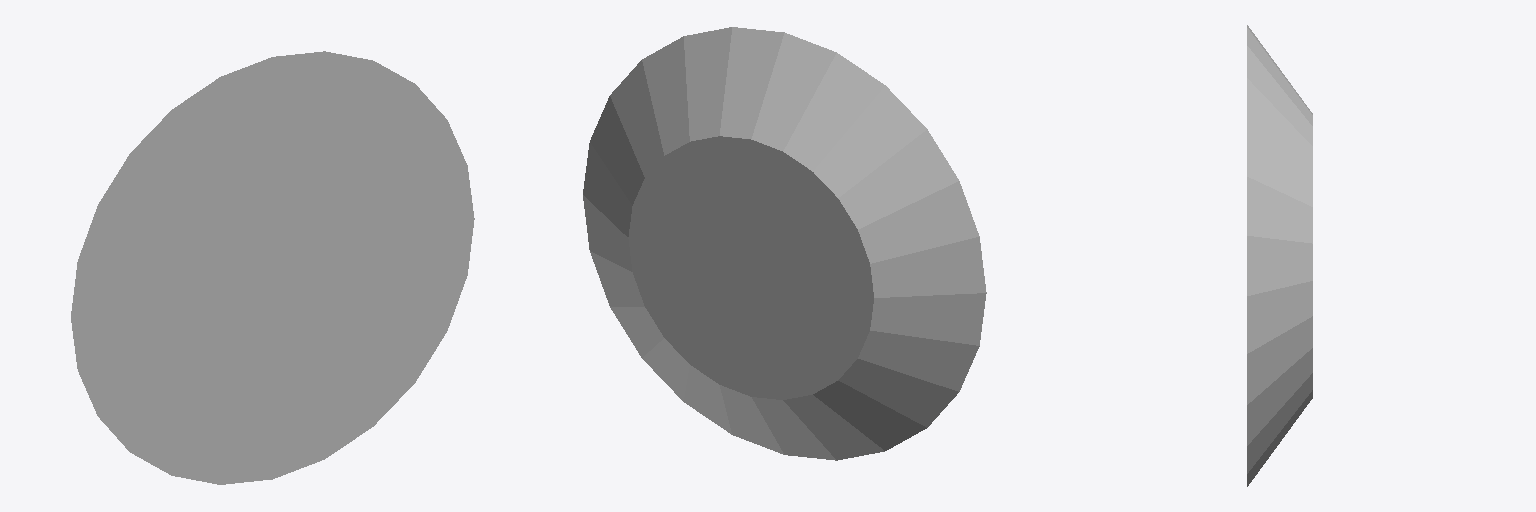
Rendered from BaffleGethoBlaster.obj.
3 renders of one model, left to right at view 1: azimuth 30°, elevation 25°; view 2: azimuth 150°, elevation 25°; view 3: azimuth 270°, elevation 25°, orthographic.
Parts seen in each view (by area): view 1: Cone001; view 2: Cone001; view 3: Cone001.
Part boxes in pixels (x1,y1,x2,y2): Cone001: (71, 51, 474, 484); Cone001: (583, 27, 986, 460); Cone001: (1247, 25, 1312, 486).
Bounding box in the file's own units: 11.4 × 11.4 × 1.63.